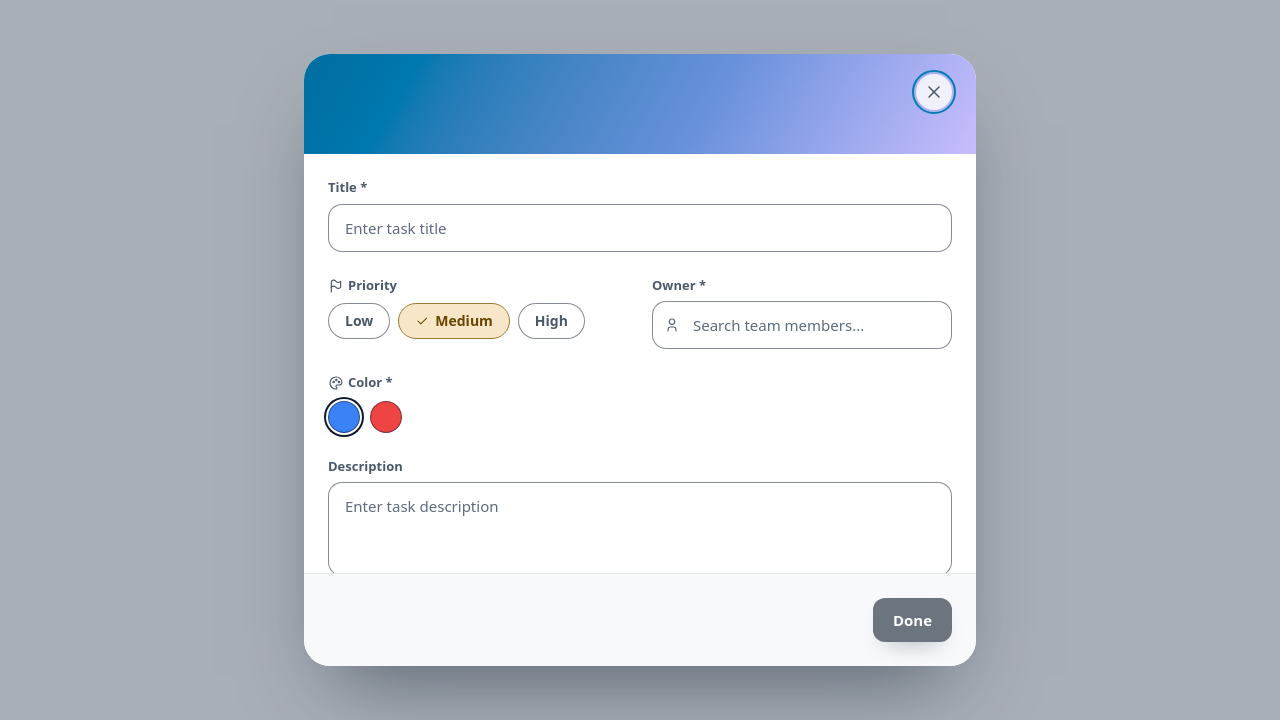
Test case: TaskModal submit gating › disables Save again after selecting an owner and then clearing it
Type "Ship the release notes" into the field with placeholder "Enter task title" at (640, 228), box [328,204,952,252]
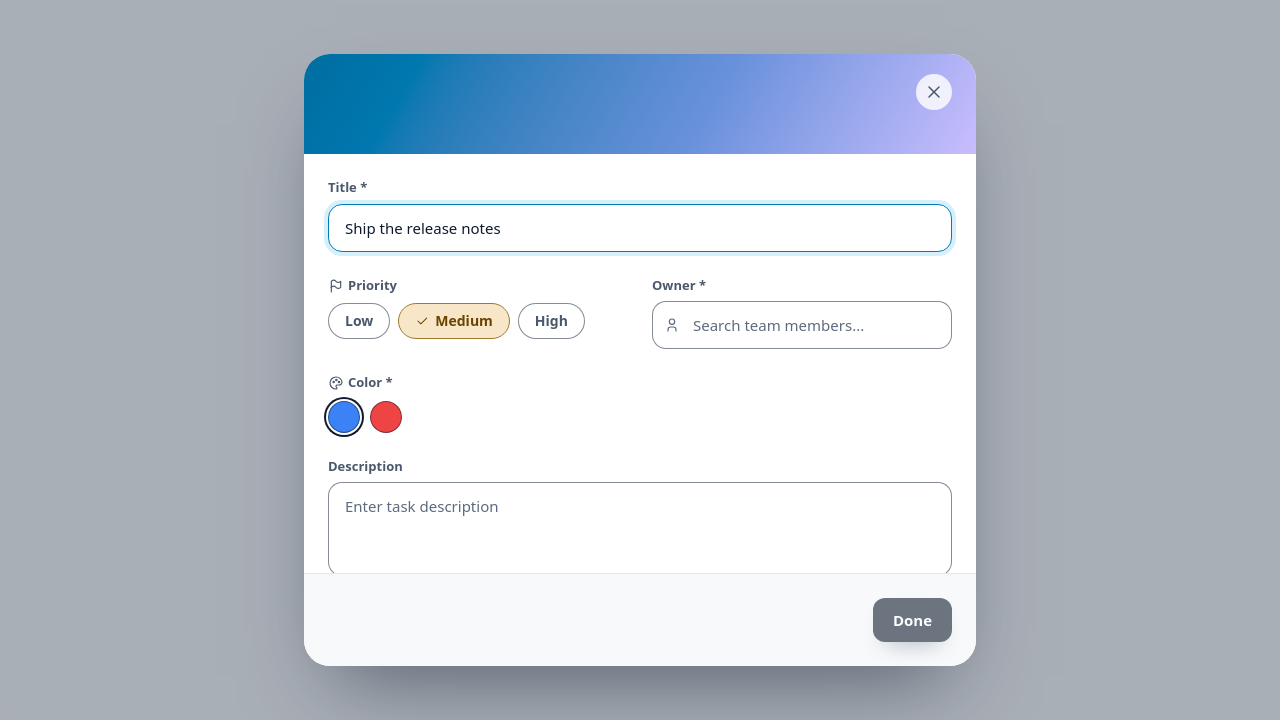
Type "Write and publish the notes for this cycle." into the text box with placeholder "Enter task description" at (640, 529), box [328,482,952,576]
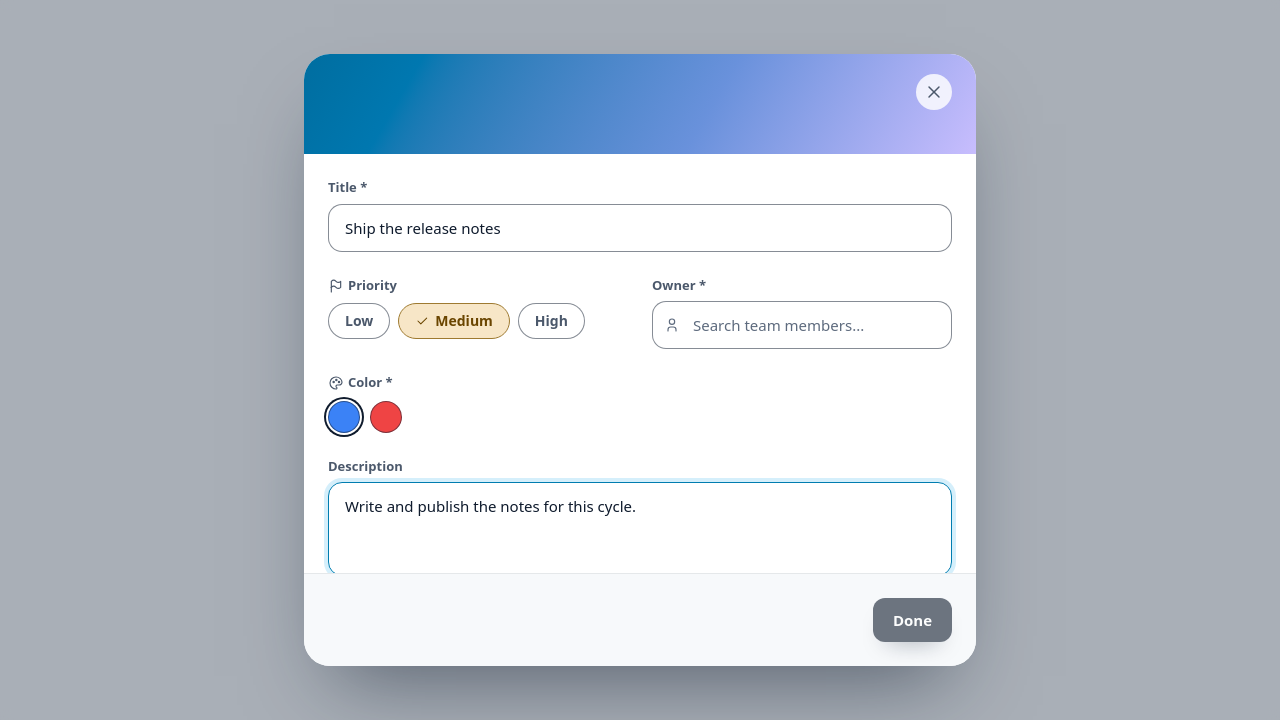
Click the radio button named "Blue" at (344, 416), box [328,400,360,432]
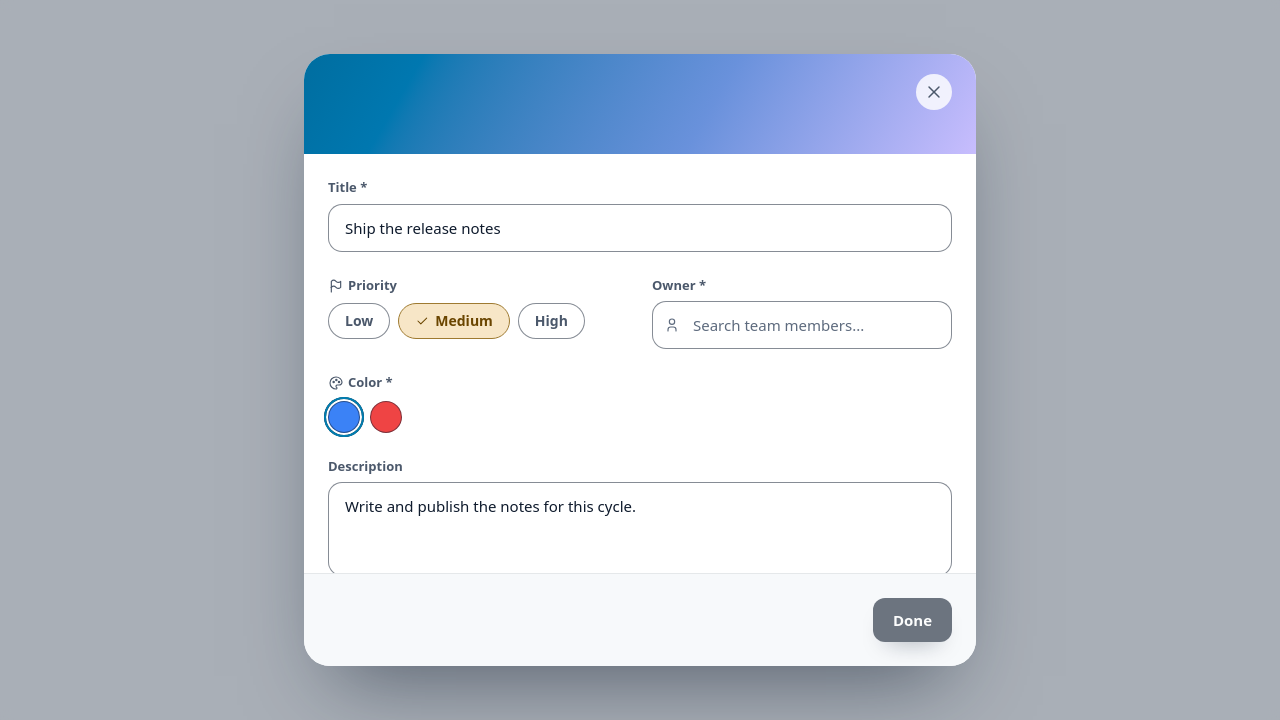
Type "Ada" into the dropdown labelled "Owner *" at (802, 325), box [652,301,952,349]
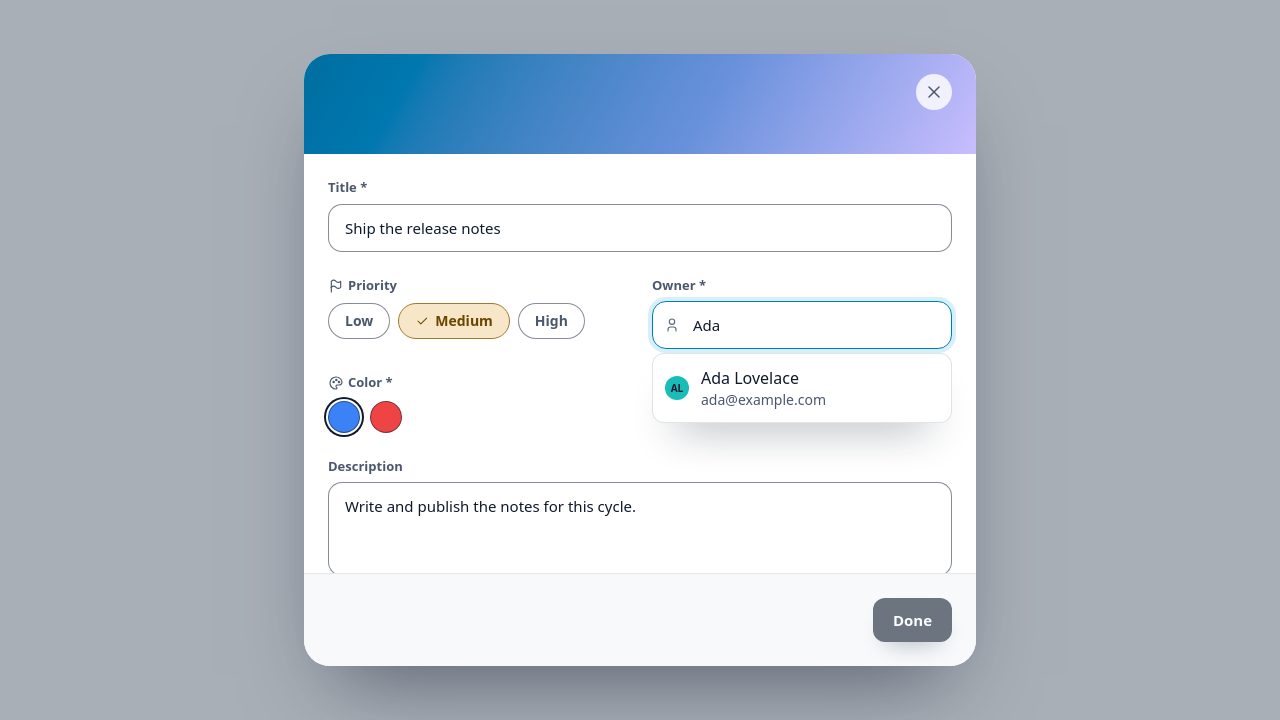
Click the text "Ada Lovelace" at (750, 378), box [701,367,799,389]
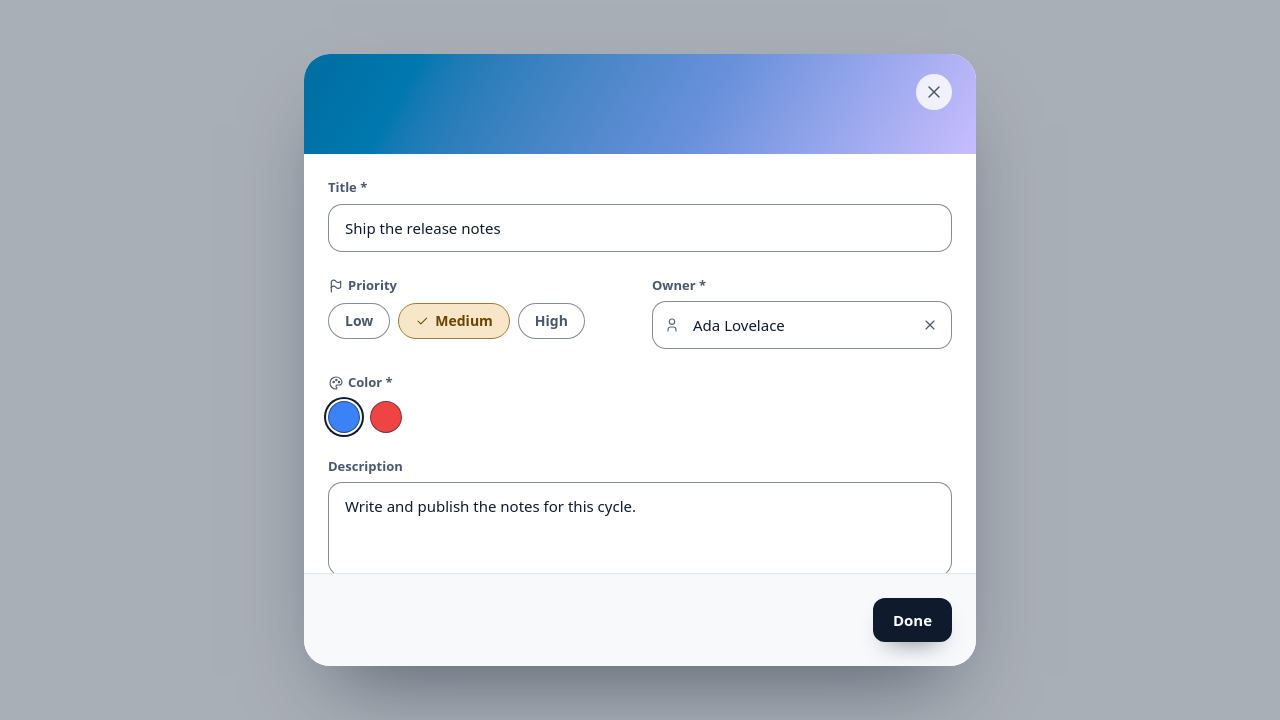
expect the button "Done" is enabled: met, box [873,598,952,642]
Click the button named "Clear selected user" at (930, 325), box [908,301,952,349]
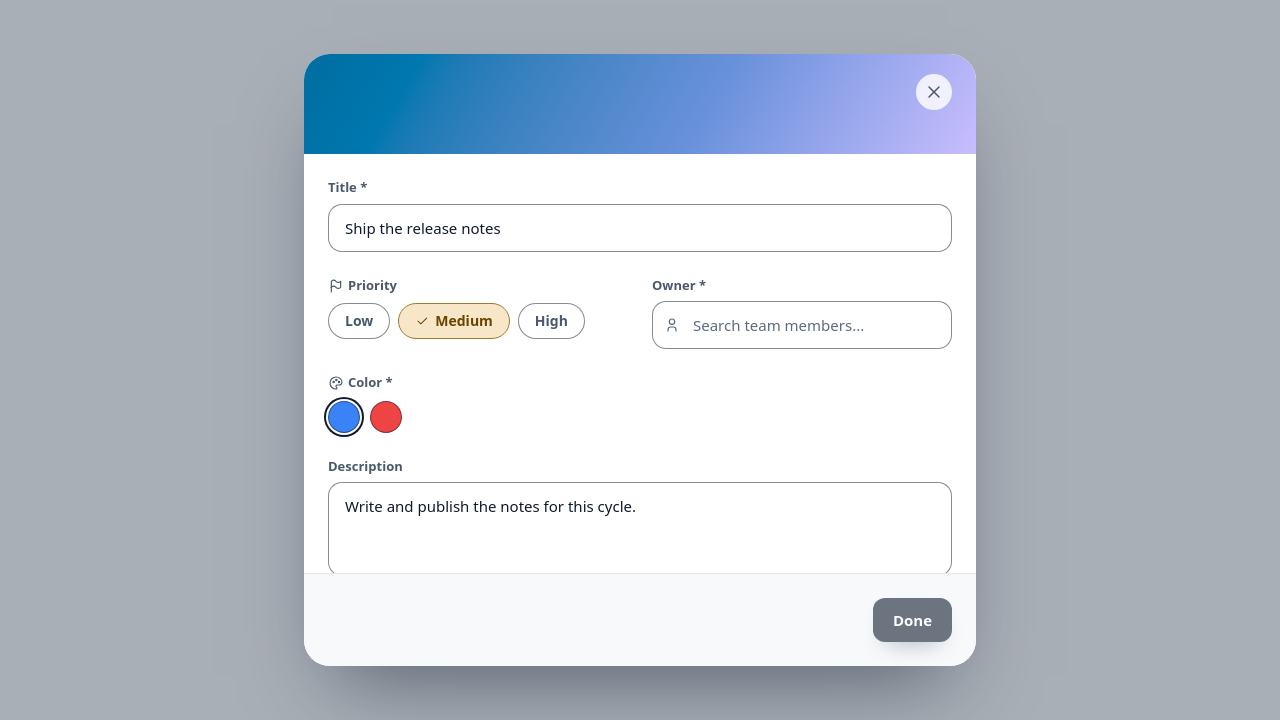
expect the button "Done" is disabled: met, box [873,598,952,642]
